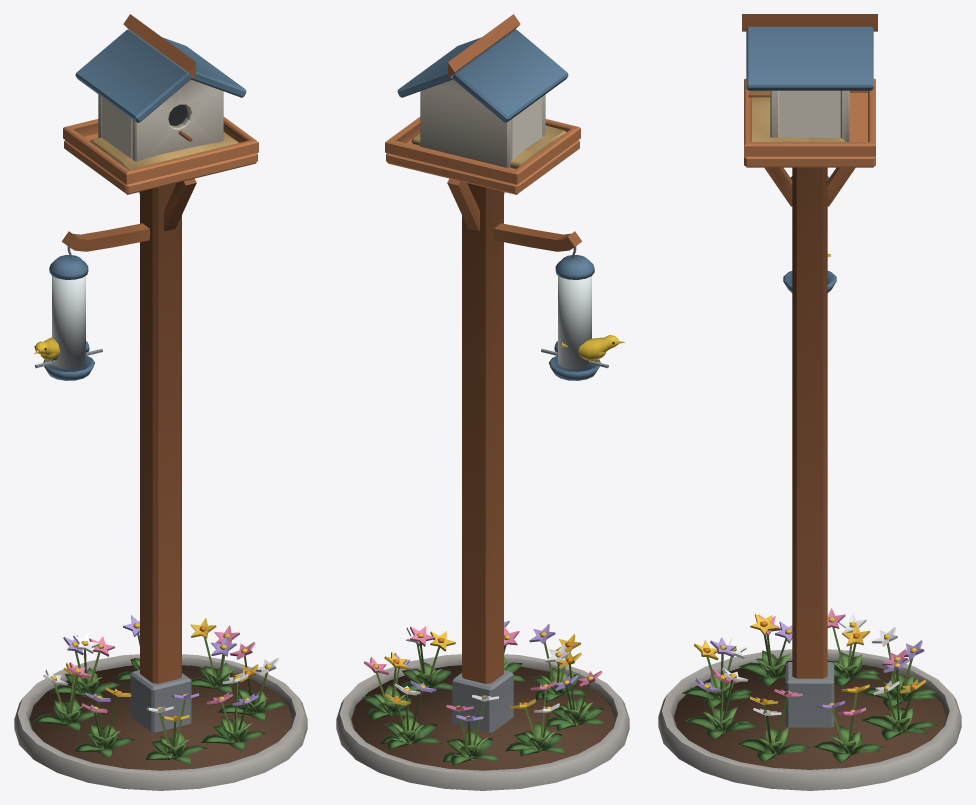
File: birdFeeder.glb
The picture shows the model from 3 angles, left to right: view 1: azimuth 30°, elevation 25°; view 2: azimuth 150°, elevation 25°; view 3: azimuth 270°, elevation 25°; orthographic projection. The views are drawn at different scales.
Parts seen in each view (by area): view 1: body; view 2: body; view 3: body.
Boxes of the visible parts, x1=… form: body: x1=14, y1=14, x2=307, y2=790; body: x1=336, y1=14, x2=629, y2=790; body: x1=658, y1=14, x2=961, y2=790.
Bounding box in the file's own units: 0.7102 × 1.79 × 0.6903.
